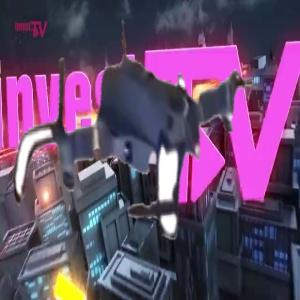drone: (5, 14, 266, 275)
